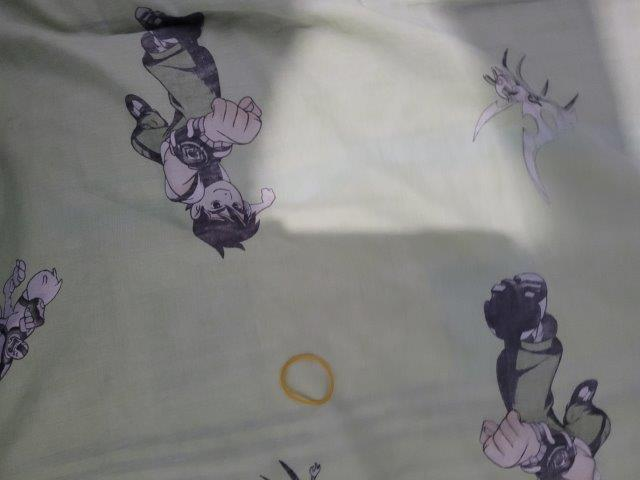karet: (278, 354, 335, 406)
